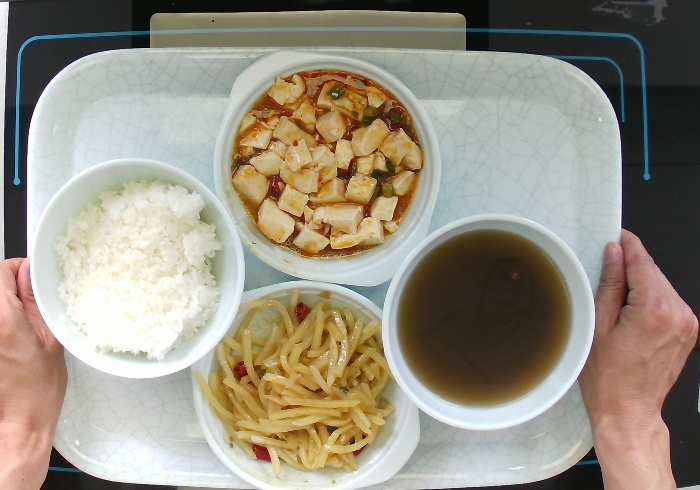JYsf-Fan_Wan: (28, 155, 247, 380), (380, 210, 597, 432)
JYsf-Shuang_Er_Pan: (211, 48, 443, 288), (190, 278, 422, 490)
